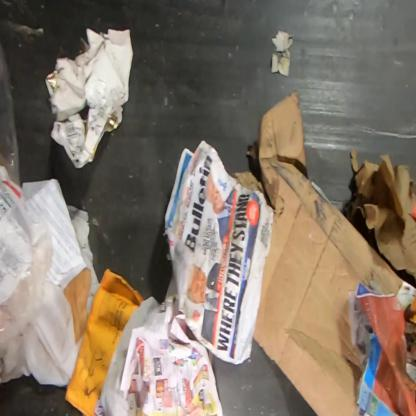cardboard: (234, 89, 403, 415), (344, 147, 415, 415)
soft_plastic: (0, 32, 53, 349)
